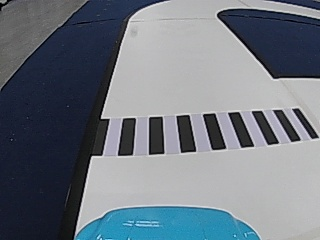CrossWalk: (90, 106, 317, 157)
